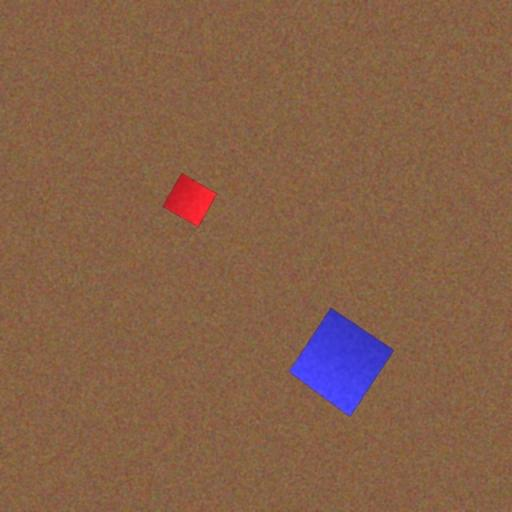BLUE_SQUARE: (288, 307, 395, 418)
RED_SQUARE: (162, 172, 218, 228)
